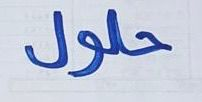jeem: (129, 29, 174, 58)
lam: (23, 6, 69, 72)
tah: (105, 7, 127, 58)
waw: (70, 26, 104, 78)
